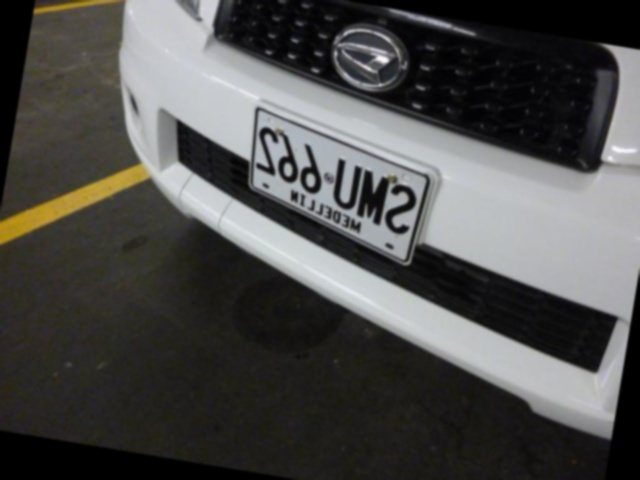placas: (232, 99, 446, 271)
